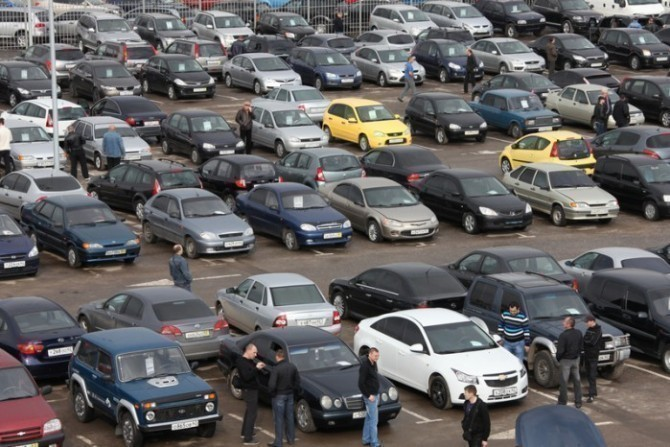Car: (216, 326, 402, 433), (462, 272, 631, 388), (68, 327, 221, 447), (353, 308, 529, 409), (77, 285, 230, 364), (581, 269, 670, 372), (20, 193, 142, 268), (403, 168, 533, 235), (316, 176, 440, 242), (141, 188, 255, 258), (236, 182, 353, 250), (216, 272, 342, 335), (328, 263, 467, 319), (86, 158, 203, 223), (502, 163, 619, 226), (0, 296, 84, 381), (0, 348, 65, 447), (442, 246, 578, 293), (0, 167, 91, 227), (196, 154, 285, 215), (591, 154, 670, 221), (322, 98, 413, 152), (559, 247, 670, 291), (466, 88, 562, 138), (539, 83, 645, 128), (161, 109, 245, 164), (71, 115, 153, 171), (250, 100, 329, 158), (403, 91, 487, 145), (498, 131, 596, 176), (274, 147, 367, 191), (0, 98, 88, 142), (516, 405, 608, 447), (87, 96, 169, 143), (139, 53, 216, 100), (360, 145, 450, 185), (0, 119, 67, 171), (10, 42, 86, 87), (284, 47, 363, 90), (222, 53, 302, 95), (411, 38, 485, 83), (588, 125, 670, 164), (350, 45, 426, 87), (69, 59, 143, 102), (527, 33, 610, 71), (595, 28, 670, 70), (256, 0, 350, 33), (251, 84, 330, 122), (0, 61, 62, 107), (0, 208, 40, 279), (471, 71, 562, 102), (470, 37, 546, 74), (617, 74, 670, 127), (421, 0, 494, 38), (474, 0, 545, 37), (83, 41, 158, 76), (76, 14, 142, 53), (532, 0, 602, 34), (192, 10, 253, 49), (134, 13, 195, 51), (369, 4, 437, 37), (165, 38, 229, 73), (0, 6, 49, 50), (547, 68, 622, 94), (54, 8, 108, 42), (123, 5, 196, 30), (256, 12, 315, 42), (34, 0, 124, 19), (295, 33, 357, 60), (354, 30, 416, 56), (589, 15, 649, 41), (585, 0, 666, 19), (208, 0, 254, 32), (243, 35, 297, 61), (350, 0, 405, 25), (415, 26, 475, 48), (107, 0, 177, 13), (181, 0, 220, 14), (646, 242, 670, 263), (255, 0, 293, 13), (659, 13, 670, 27)
